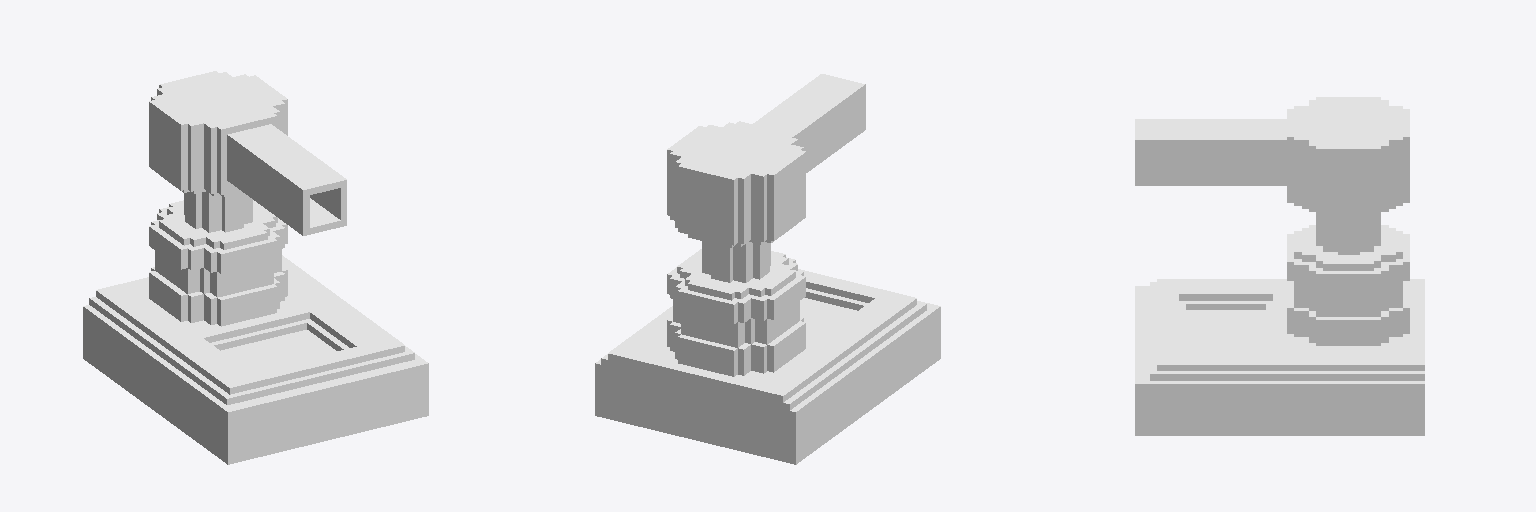
Rendered from shooter.obj.
The picture shows the model from 3 angles: view 1: azimuth 30°, elevation 25°; view 2: azimuth 150°, elevation 25°; view 3: azimuth 270°, elevation 25°; orthographic projection.
Bounding box in the file's own units: 32 × 40 × 40.